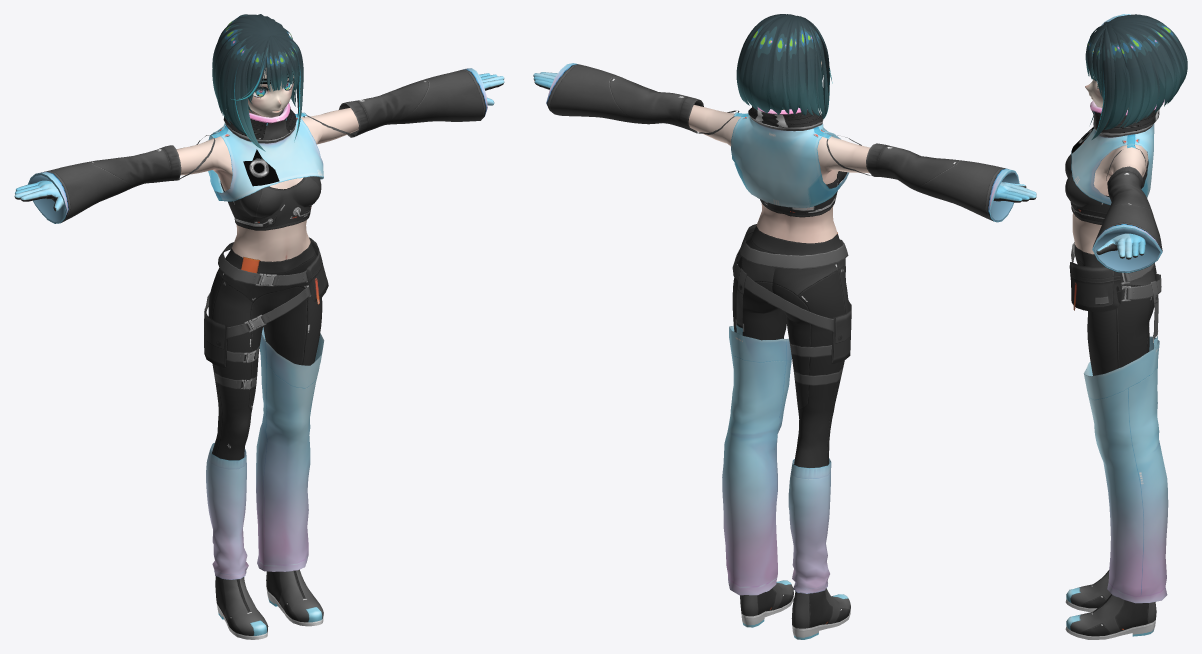
Rendered from mirai.fbx.
3 renders of one model, left to right at view 1: azimuth 30°, elevation 25°; view 2: azimuth 150°, elevation 25°; view 3: azimuth 270°, elevation 25°, orthographic. The views are drawn at different scales.
Visible parts, largest first — view 1: Body, Hair, Face; view 2: Body, Hair; view 3: Body, Hair, Face.
Part boxes in pixels (<box>): Body: <box>14,68,504,639</box>; Hair: <box>212,14,303,151</box>; Face: <box>247,68,294,117</box>; Body: <box>533,56,1036,639</box>; Hair: <box>736,14,832,118</box>; Body: <box>1065,14,1168,639</box>; Hair: <box>1085,14,1187,139</box>; Face: <box>1085,79,1103,107</box>.
Size of the model in its own units: 139 by 161 by 29.74.
22 materials, 22 textured.
